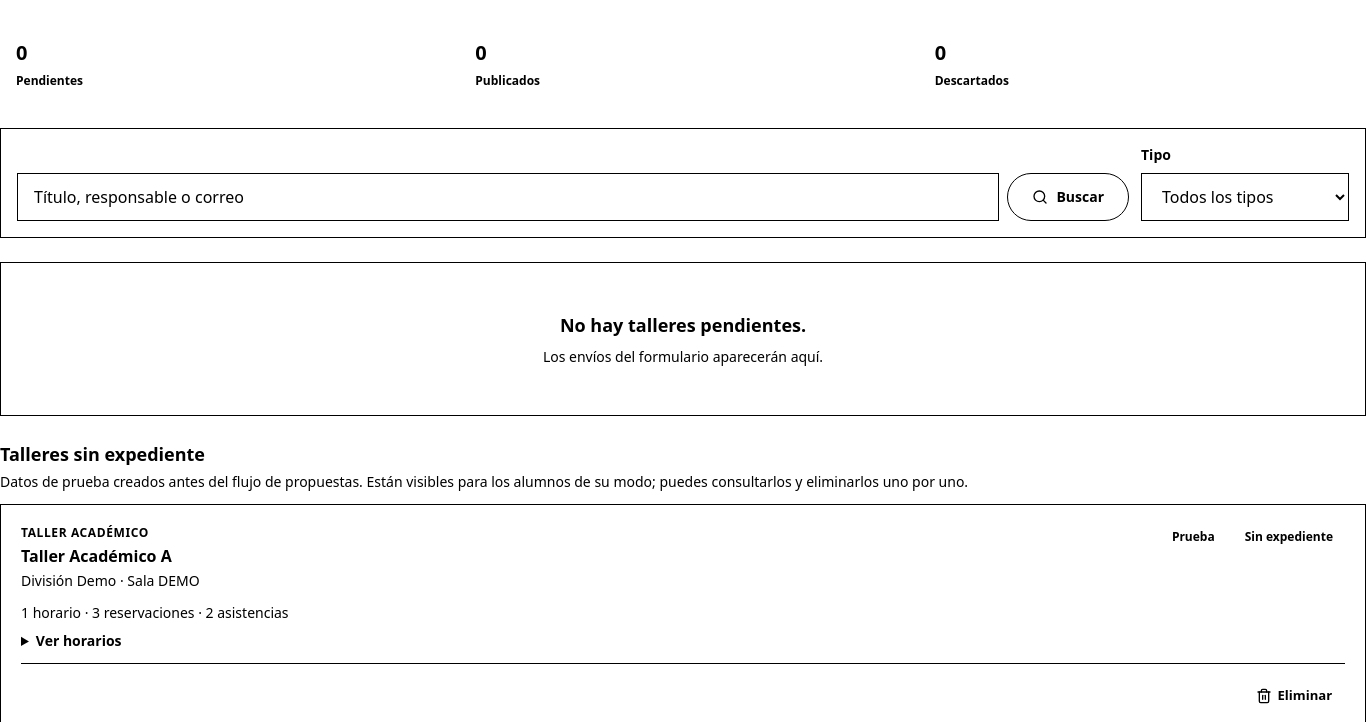
Test: each one can be deleted individually, with its related data spelled out and a typed confirmation
Click the button with aria-label "Eliminar taller Taller Académico A": (1294, 696) 1243,676 -> 1345,716
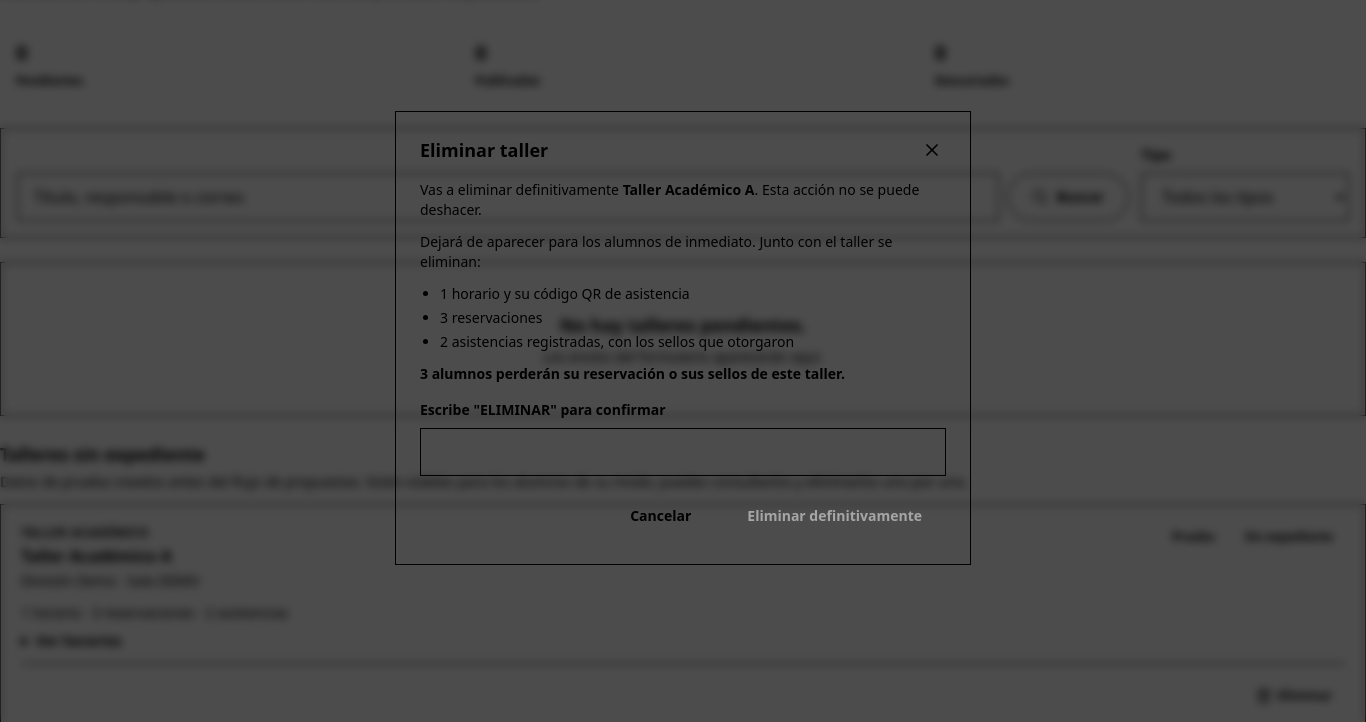
Expected: the list items read "1 horario y su código QR de asistencia", "3 reservaciones", "2 asistencias registradas, con los sellos que otorgaron", in this order, 440,284 -> 690,303; 440,308 -> 542,327; 440,332 -> 794,351
Expected: the text "3 alumnos perderán su reservación o sus sellos de este taller." is shown, 420,364 -> 845,383
Expected: the button "Eliminar definitivamente" is disabled, 723,492 -> 946,540
In the field labelled "Escribe \"ELIMINAR\" para confirmar": (683, 452) 420,428 -> 946,476, type "ELIMINAR"
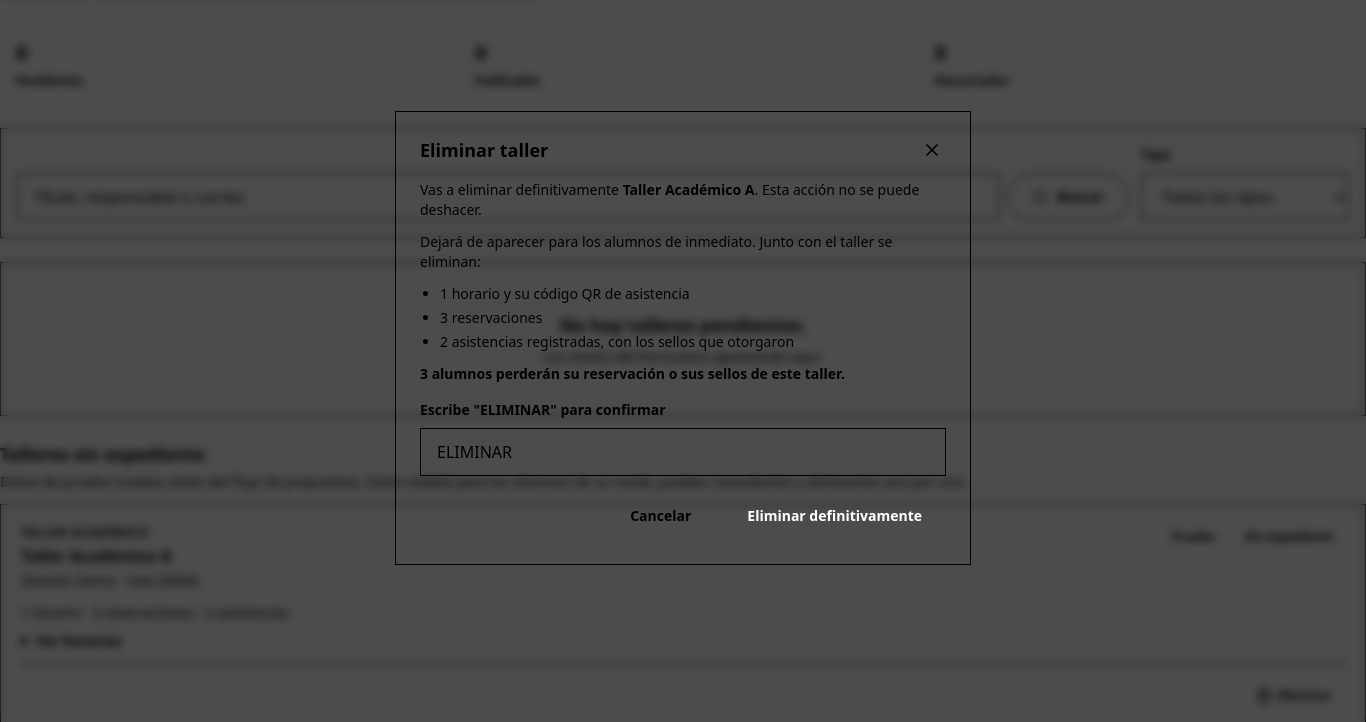
Click the button "Eliminar definitivamente": (835, 516) 723,492 -> 946,540
(page scrolled)
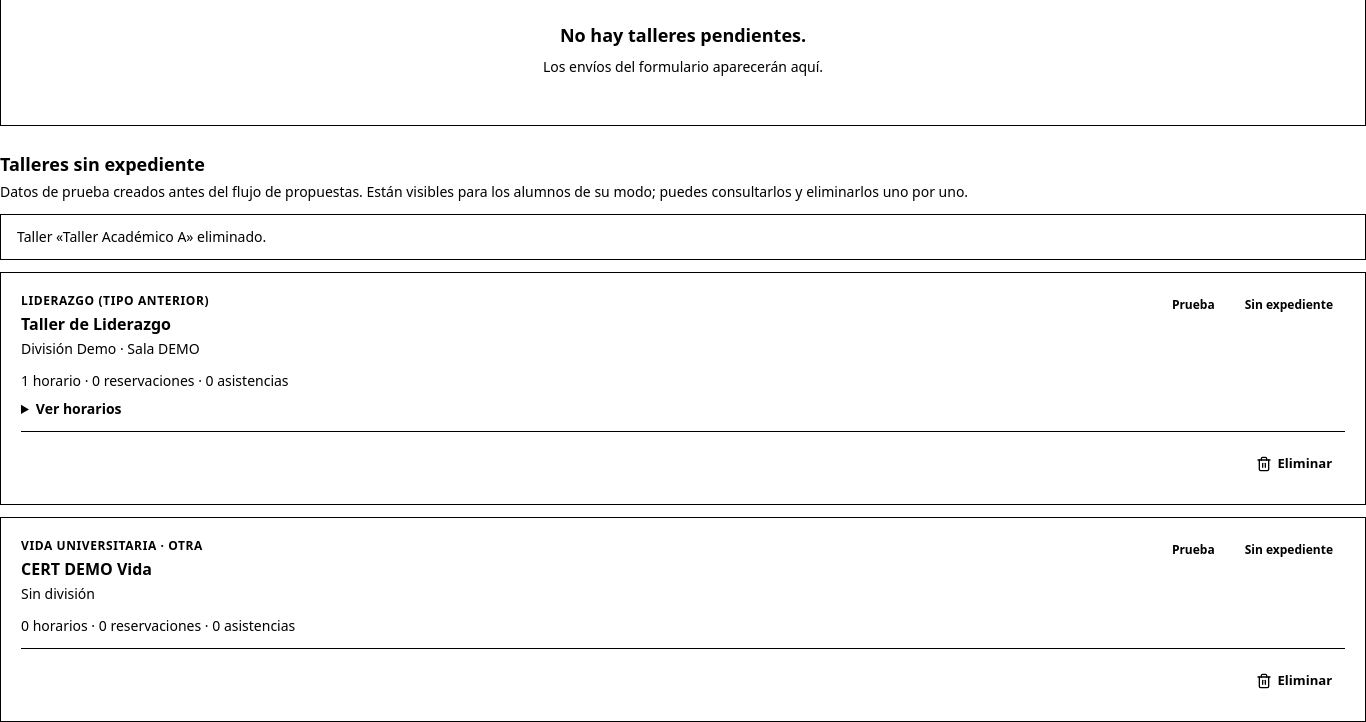
Expected: the heading "Taller de Liderazgo" is shown, 21,313 -> 171,335
Expected: the text "Taller «Taller Académico A» eliminado." is shown, 0,214 -> 1365,260
